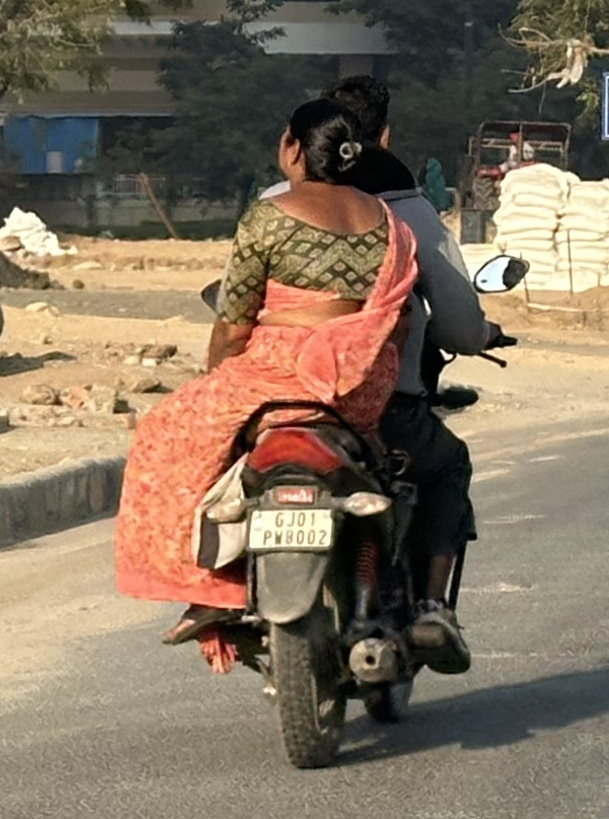BikeWithRider: (101, 61, 540, 776)
NoHelmet: (268, 92, 371, 191), (318, 68, 403, 161)
